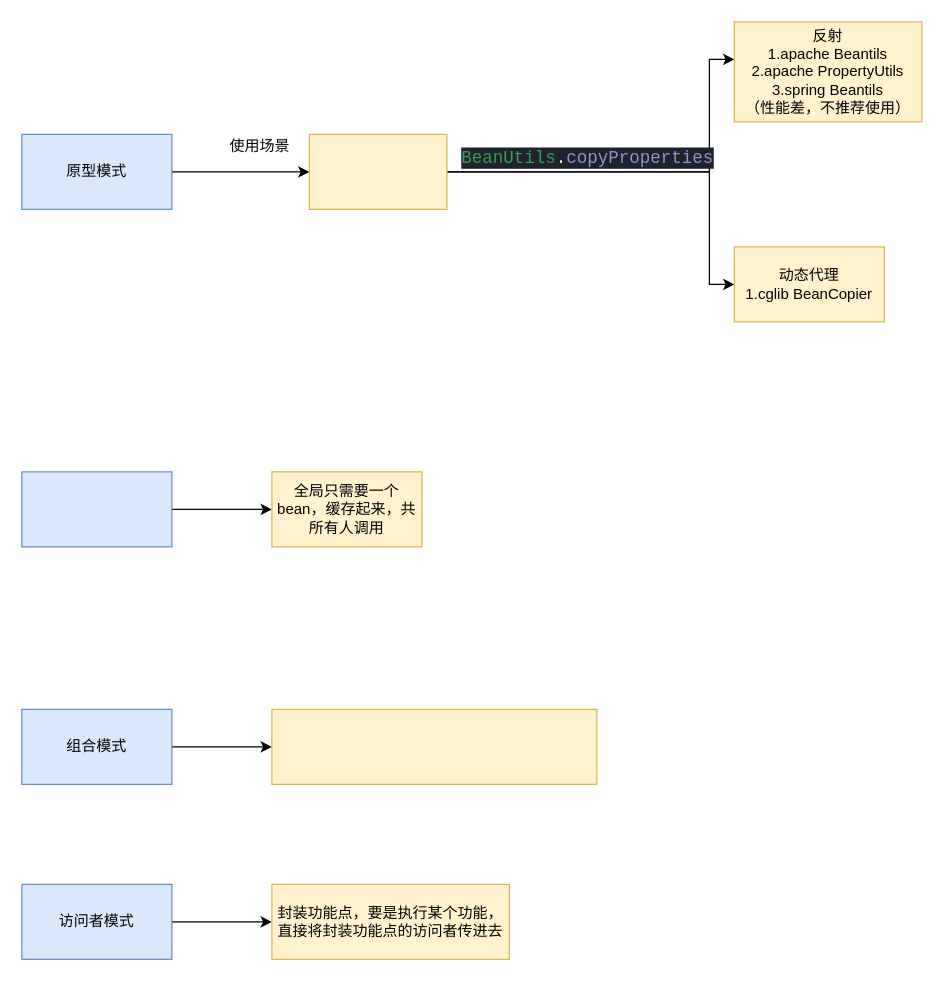
Some shapes in this 944 by 981 pixel diagram are drawn without their labels. Here are the shapes that lost their labels. From the top down, the centre of each, then its label:
the point at 377,171: 数据在各层之间实体类相互转换（深拷贝）
the point at 96,509: 享元模式
the point at 434,746: 将一个树形结构的数据结构拼装起来，组成一棵树，我们对某一个节点操作，可以由节点直接递归操作自己所有的上级或者是下级节点，无差别对待树中的每一个节点
